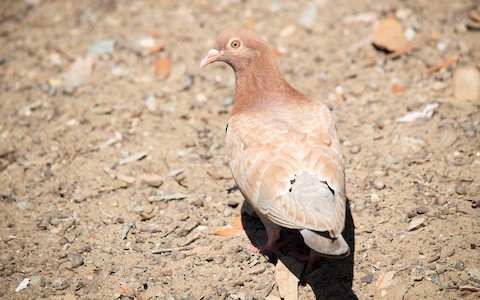pigeon: (198, 24, 358, 265)
